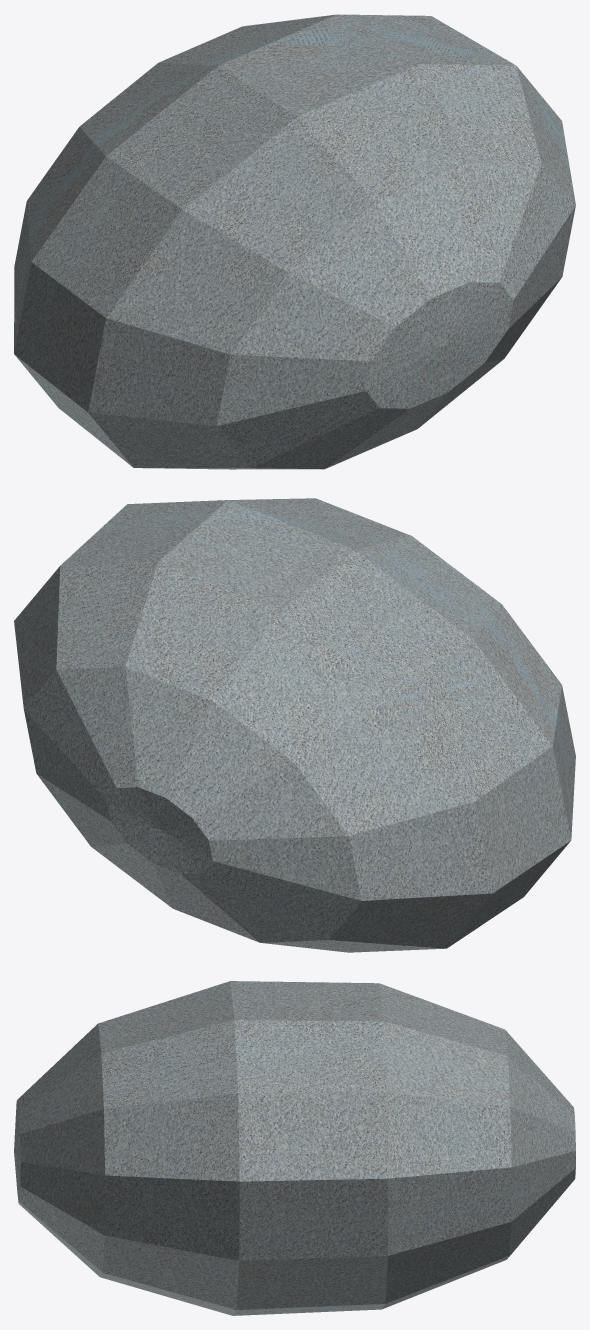
File: 4a1cd142-bee1-4bbb-bd26-f8d8e16a679f.dae
The picture shows the model from 3 angles, top to bottom: view 1: azimuth 30°, elevation 25°; view 2: azimuth 150°, elevation 25°; view 3: azimuth 270°, elevation 25°; orthographic projection. The views are drawn at different scales.
Parts seen in each view (by area): view 1: SketchUp; view 2: SketchUp; view 3: SketchUp.
Part boxes in pixels (box(x1,y1,x2,y2)): SketchUp: box(14, 14, 575, 469); SketchUp: box(14, 498, 575, 952); SketchUp: box(14, 981, 575, 1315).
Bounding box in the file's own units: 77.11 × 79.46 × 54.39.
